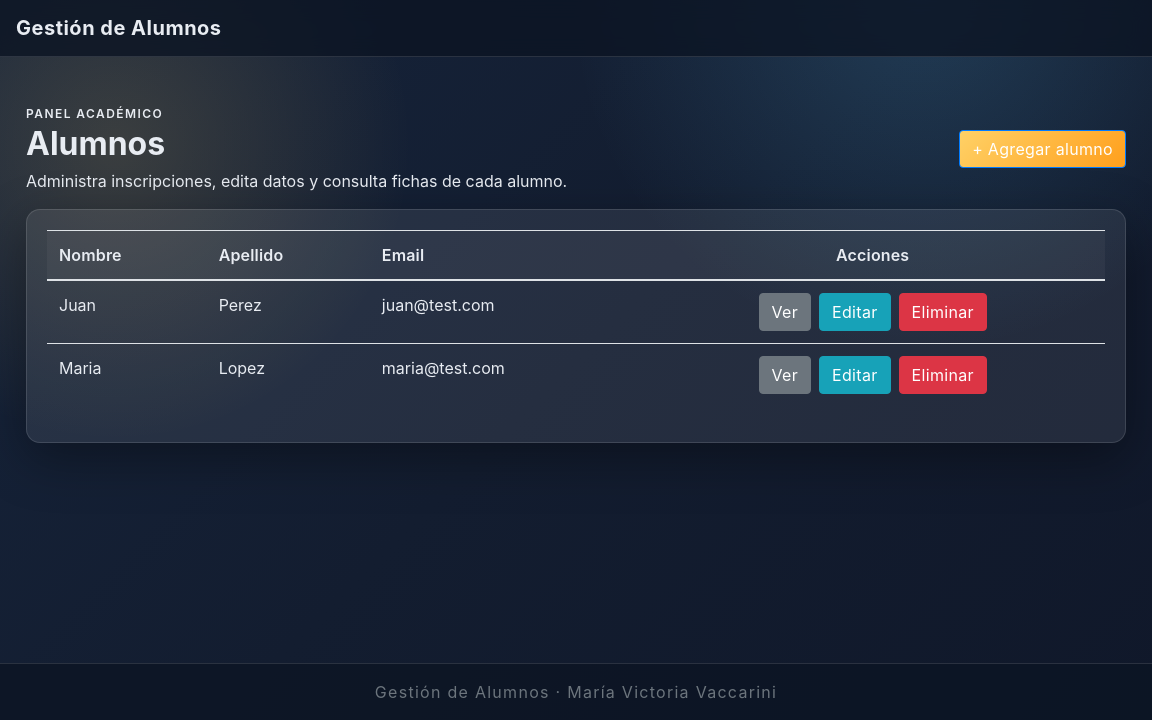
it: Editar alumno › edita un alumno existente
The width and height of the screenshot is (1152, 720).
Click the button "Editar" in the row of "Perez". click: (855, 312)
box: [819, 293, 891, 331]
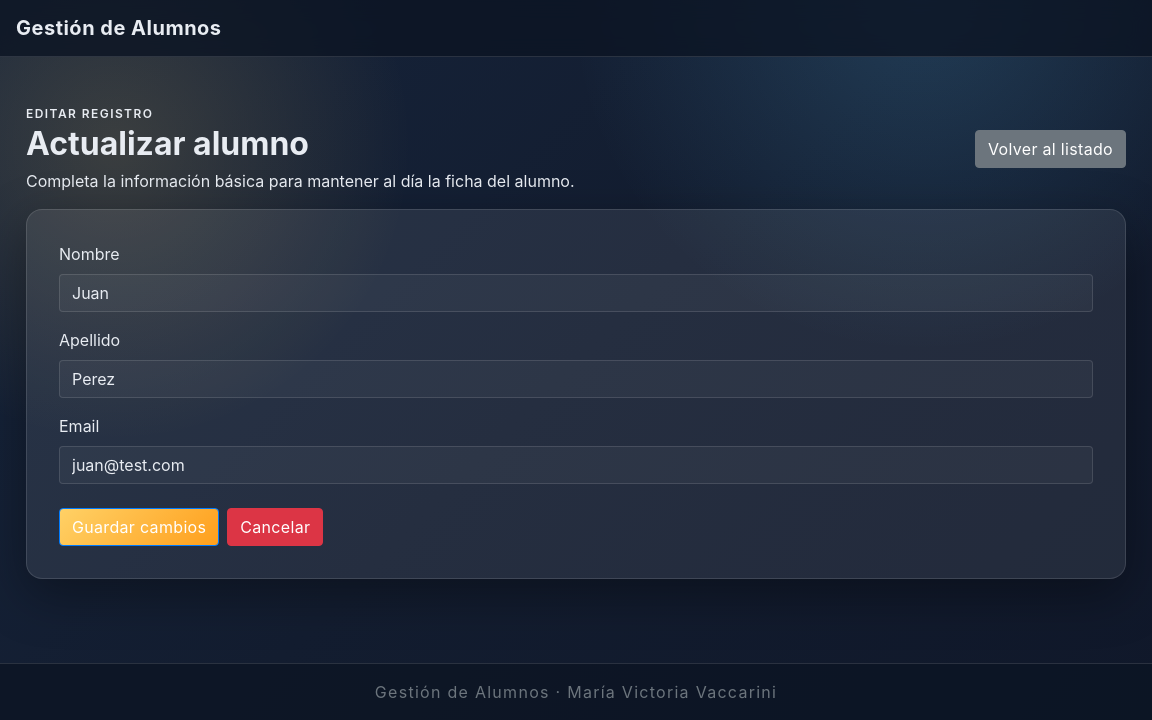
Replace the text in the field named "lastName" below "Apellido" with "Actualizado". click: (576, 379)
box: [59, 360, 1093, 398]
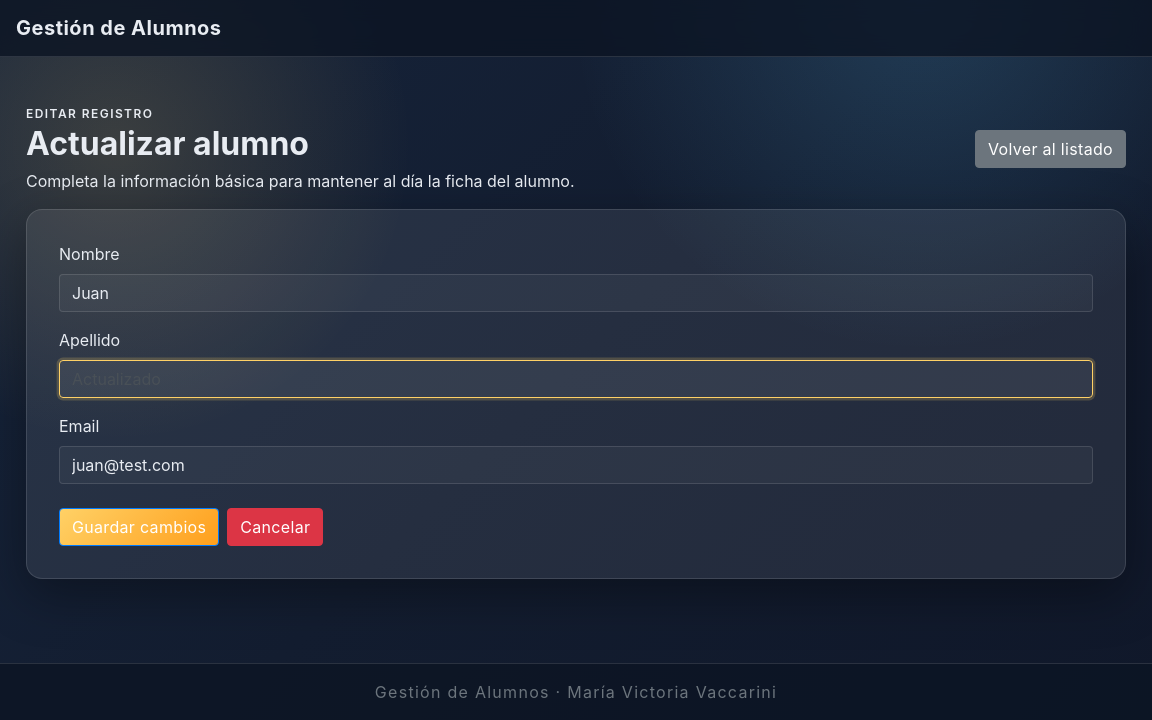
Click the button "Guardar cambios". click: (139, 527)
box: [59, 508, 219, 546]
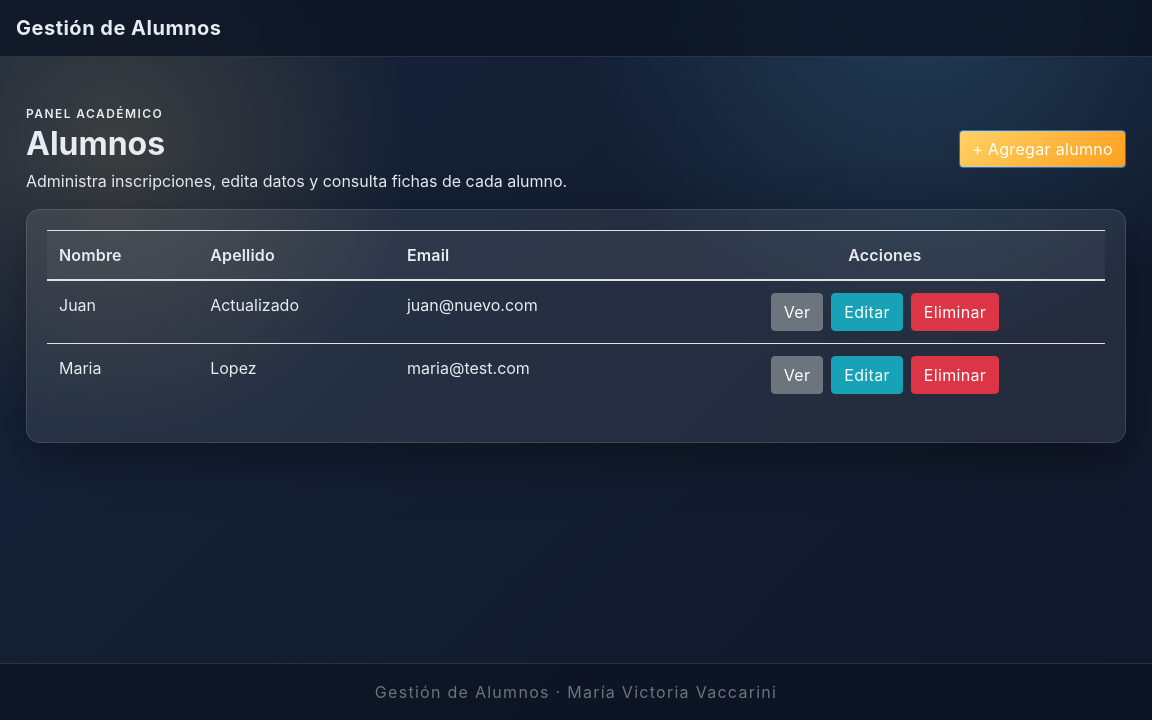
Now the text "Actualizado" is shown, box [198, 280, 395, 343]
Now the text "juan@nuevo.com" is shown, box [395, 280, 665, 343]
